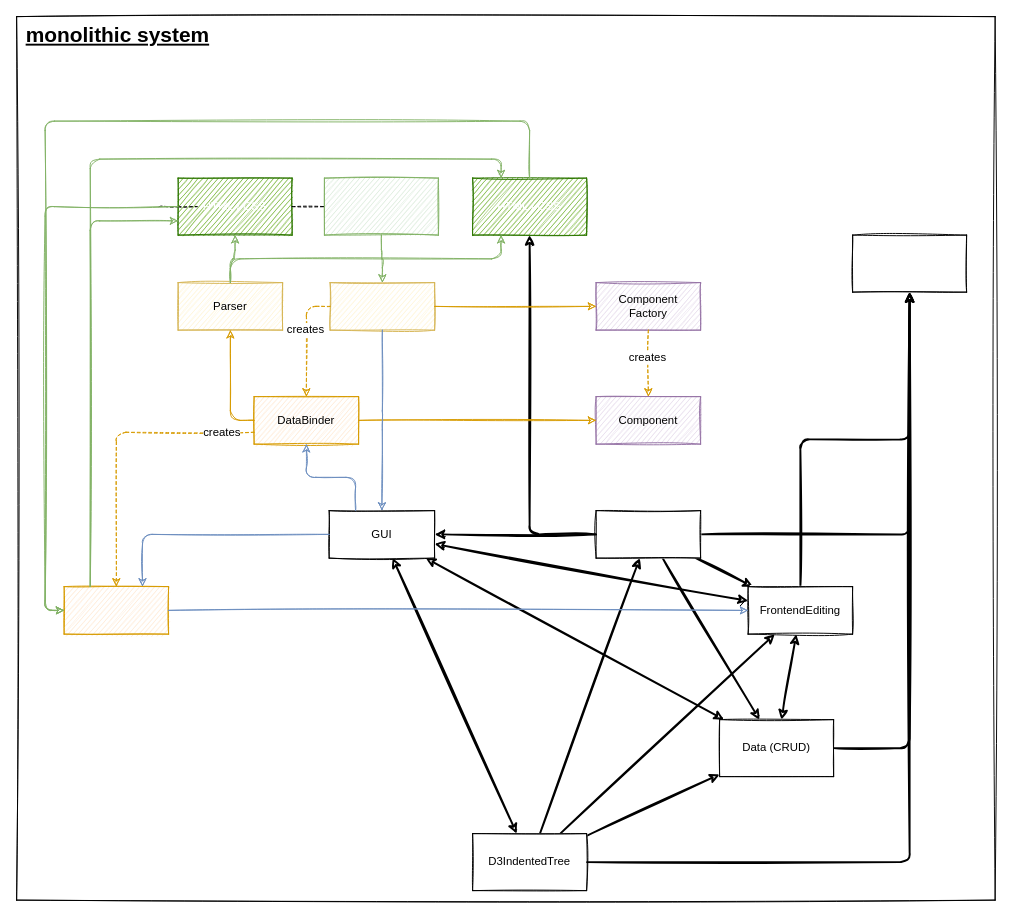
The diagram is 1012 pixels wide and 917 high, and some of its shapes have lost their labels. Here are the shapes that lost their labels. From the top down, the box of each, then its label:
(323, 177, 438, 235): JavaScript Bootstrap
(852, 234, 967, 292): BE Request
(329, 282, 435, 330): Loader
(595, 510, 701, 558): Editor
(63, 586, 169, 634): DataHandler
